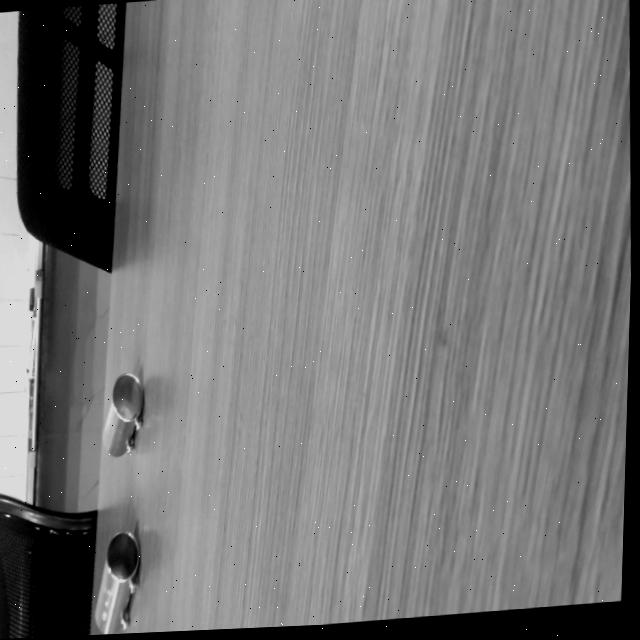Co_Lon: (90, 528, 147, 638)
Co_Nho: (94, 368, 155, 461)
